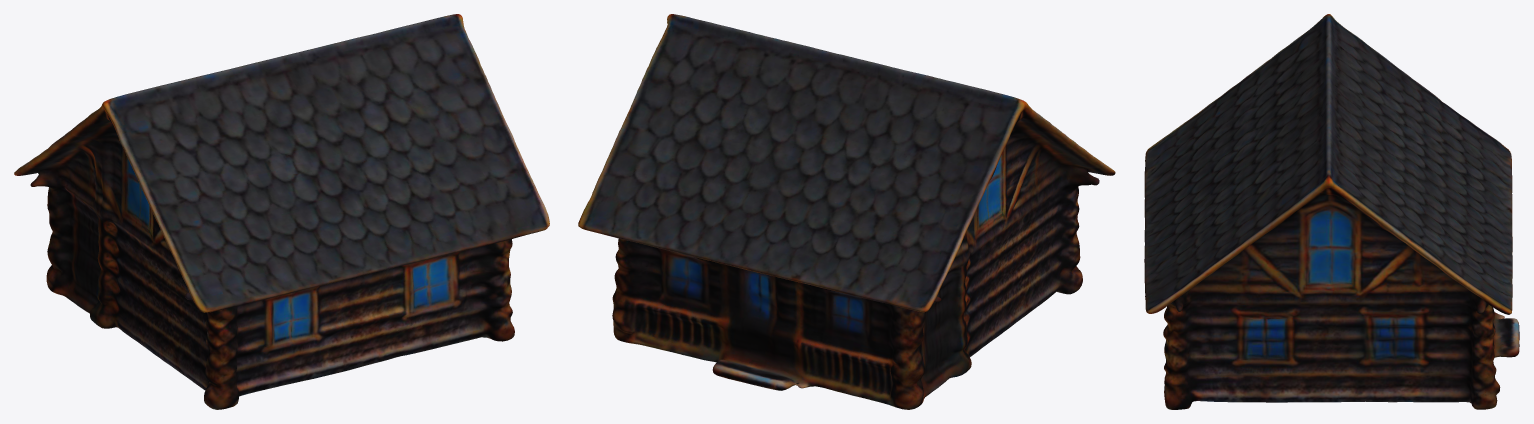
The model's file is 3271e13b61af_Luxury_cabin.fbx.
The picture shows the model from 3 angles, left to right: view 1: azimuth 30°, elevation 25°; view 2: azimuth 150°, elevation 25°; view 3: azimuth 270°, elevation 25°; orthographic projection. The views are drawn at different scales.
Visible parts, largest first — view 1: high_poly; view 2: high_poly; view 3: high_poly.
Part boxes in pixels (<box>): high_poly: <box>14,14,549,409</box>; high_poly: <box>578,14,1115,409</box>; high_poly: <box>1144,14,1519,409</box>.
Bounding box in the file's own units: 100 × 68.61 × 94.29.
